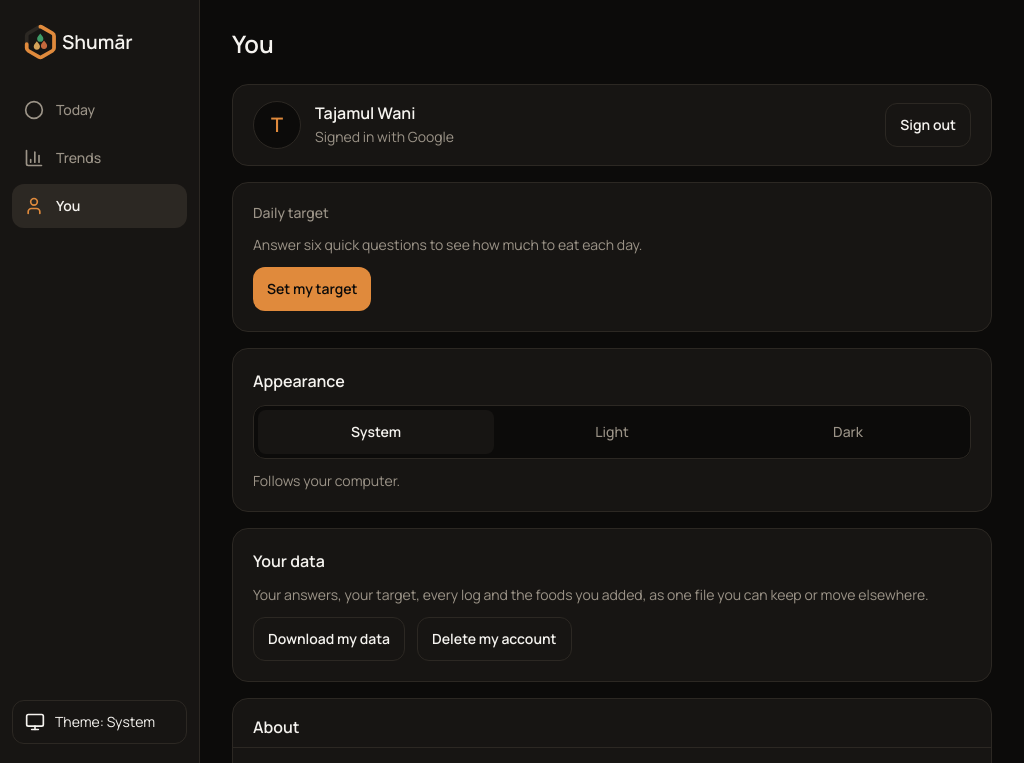
Test: the You screen › switches the theme and explains each choice
Click the button "Light" at point(612, 432), box [494,410,730,454]
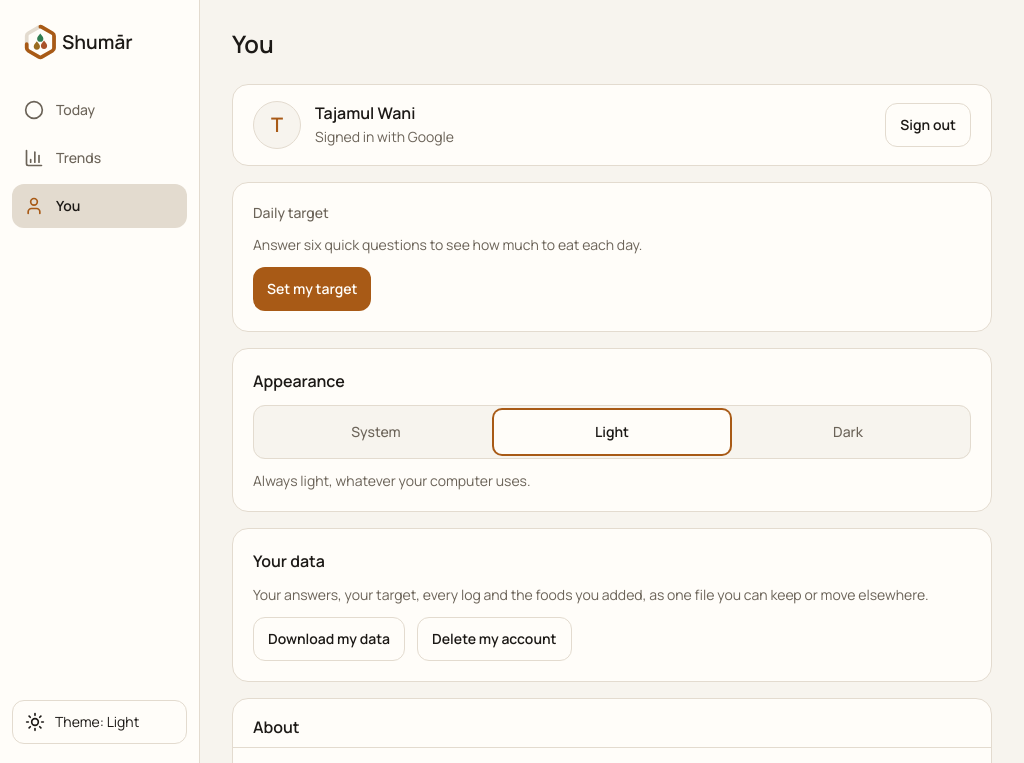
Now the element "Appearance" shows "Always light, whatever", box [253,471,430,490]
Click the button "Dark" at point(848, 432), box [730,410,966,454]
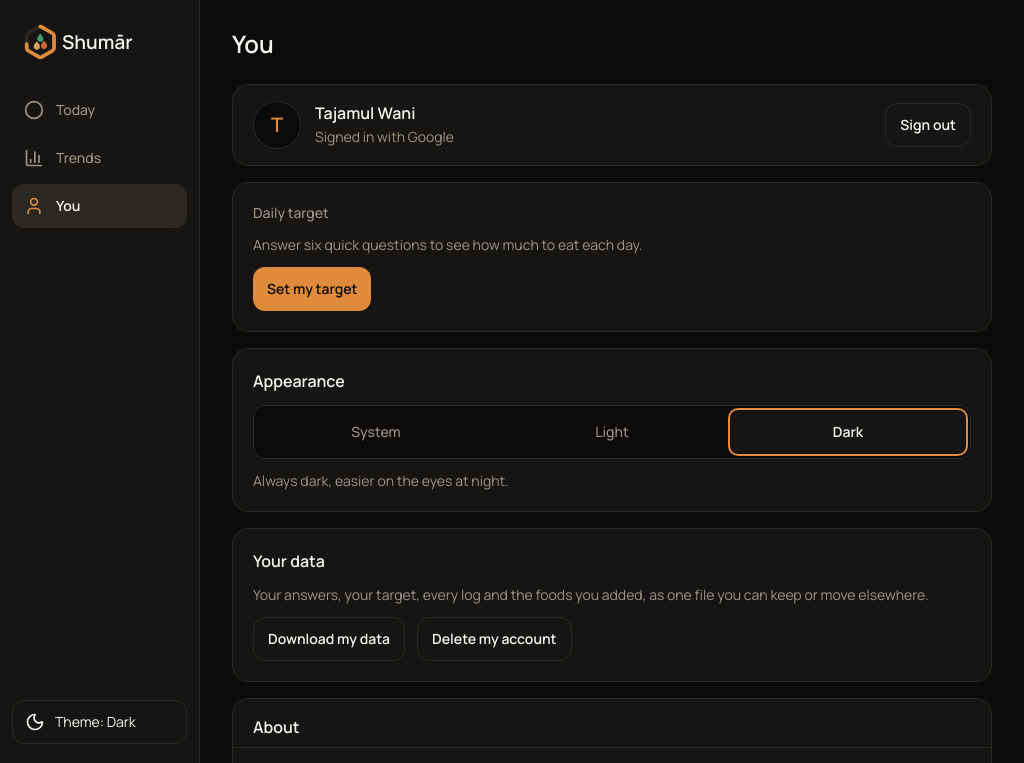
Now the element "Appearance" shows "Always dark, easier on the eyes", box [253,471,509,490]
